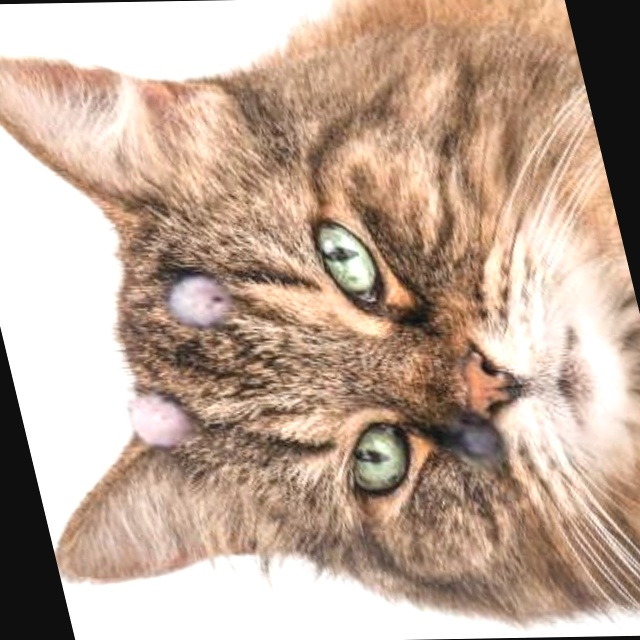lump_and_bump: (120, 393, 204, 446), (162, 280, 241, 322), (454, 416, 503, 455)
